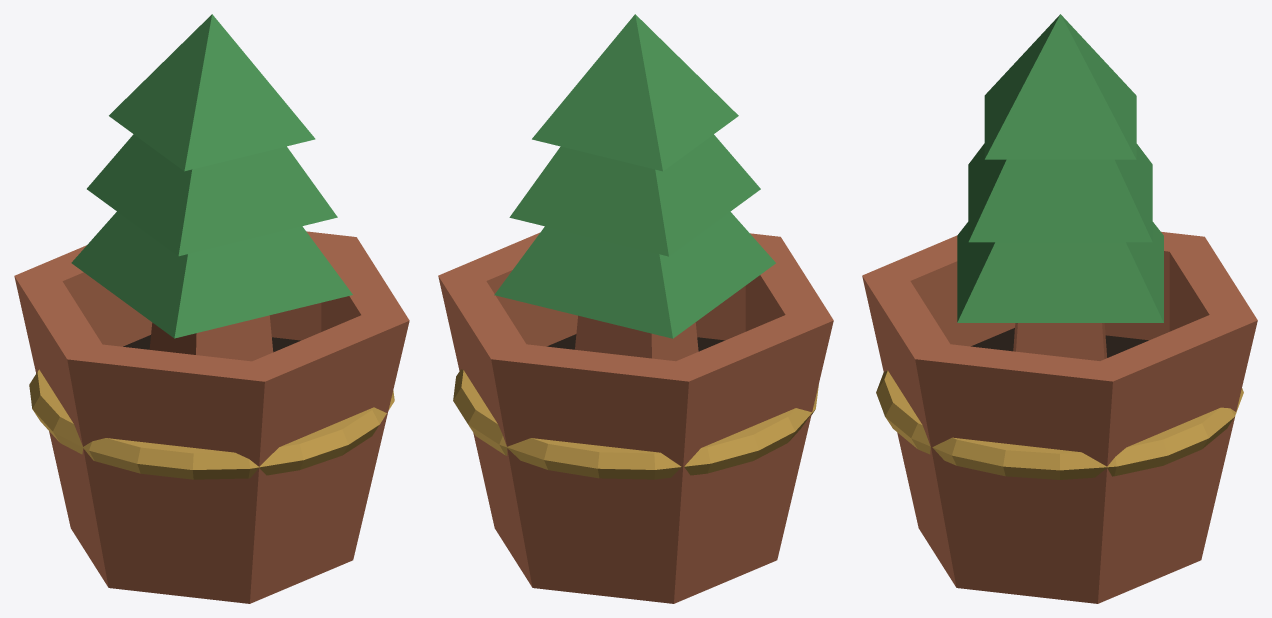
Rendered from plantSmall1.glb.
3 renders of one model, left to right at view 1: azimuth 30°, elevation 25°; view 2: azimuth 150°, elevation 25°; view 3: azimuth 270°, elevation 25°, orthographic.
Parts seen in each view (by area): view 1: plantSmall1(Clone); view 2: plantSmall1(Clone); view 3: plantSmall1(Clone).
Boxes of the visible parts, box(x1,y1,x2,y2) form: plantSmall1(Clone): box(14, 14, 409, 603); plantSmall1(Clone): box(438, 14, 833, 603); plantSmall1(Clone): box(862, 14, 1257, 603).
Size of the model in its own units: 0.0947 by 0.14 by 0.0947.
